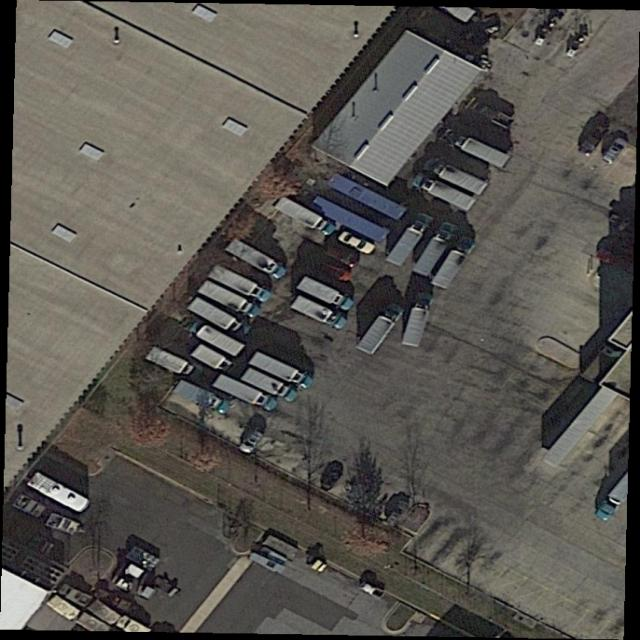large-vehicle: (24, 469, 93, 516), (224, 235, 290, 284), (384, 211, 437, 270), (355, 302, 410, 358), (187, 295, 256, 339), (246, 349, 318, 391), (412, 221, 462, 280), (271, 196, 338, 238), (430, 235, 480, 291), (410, 173, 480, 213), (211, 373, 280, 413), (422, 156, 491, 196), (195, 278, 262, 319), (206, 265, 273, 306), (186, 318, 249, 360), (449, 133, 516, 170), (288, 295, 350, 331), (296, 277, 357, 313), (399, 292, 437, 349), (242, 368, 300, 405), (173, 380, 234, 415), (144, 346, 202, 379), (190, 344, 237, 373)
small-vehicle: (315, 240, 364, 271), (242, 549, 290, 580), (310, 255, 355, 287), (334, 229, 382, 259), (7, 490, 50, 523), (313, 458, 351, 494), (42, 510, 87, 539), (575, 122, 612, 157), (597, 134, 632, 168), (55, 580, 95, 609), (236, 426, 269, 456), (355, 579, 391, 603)
